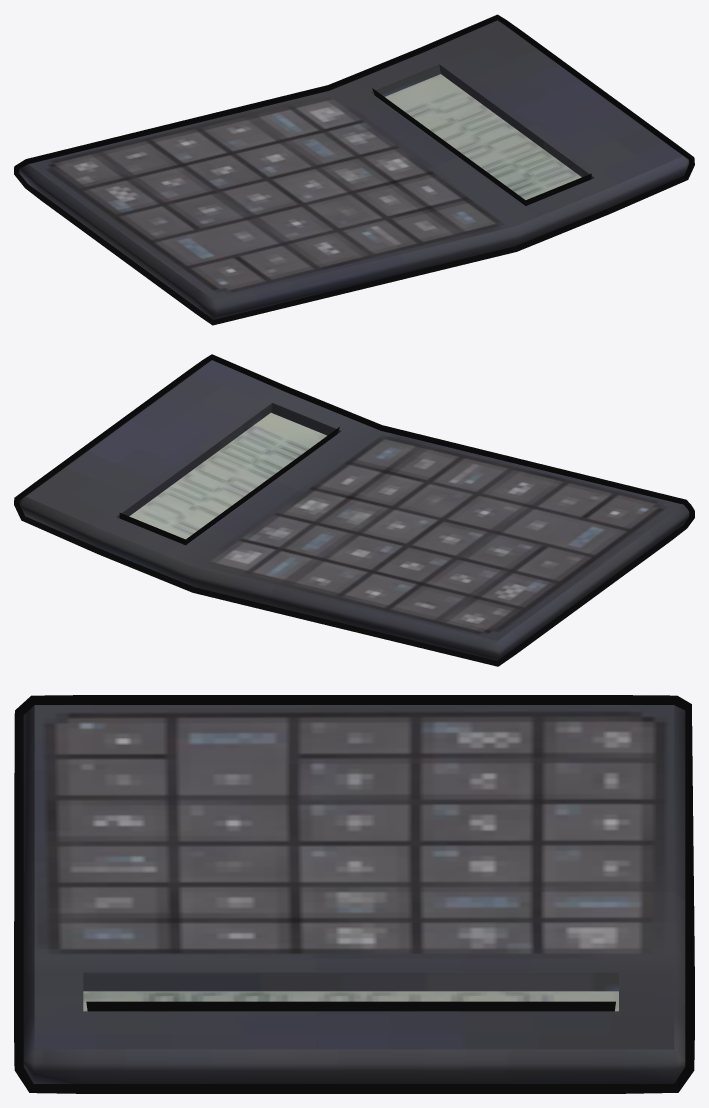
The model's file is Calculadora.glb.
3 renders of one model, top to bottom at view 1: azimuth 30°, elevation 25°; view 2: azimuth 150°, elevation 25°; view 3: azimuth 270°, elevation 25°, orthographic. The views are drawn at different scales.
Parts seen in each view (by area): view 1: Calculadora; view 2: Calculadora; view 3: Calculadora.
Part boxes in pixels (x1,y1,x2,y2): Calculadora: [14, 14, 694, 325]; Calculadora: [14, 354, 694, 666]; Calculadora: [14, 695, 694, 1093].
Size of the model in its own units: 1.71 by 0.1984 by 1.19.
Materials: 2 (1 with a texture image).
